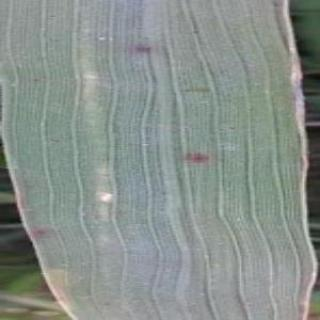bercak-Cokelat: (180, 144, 210, 168)
